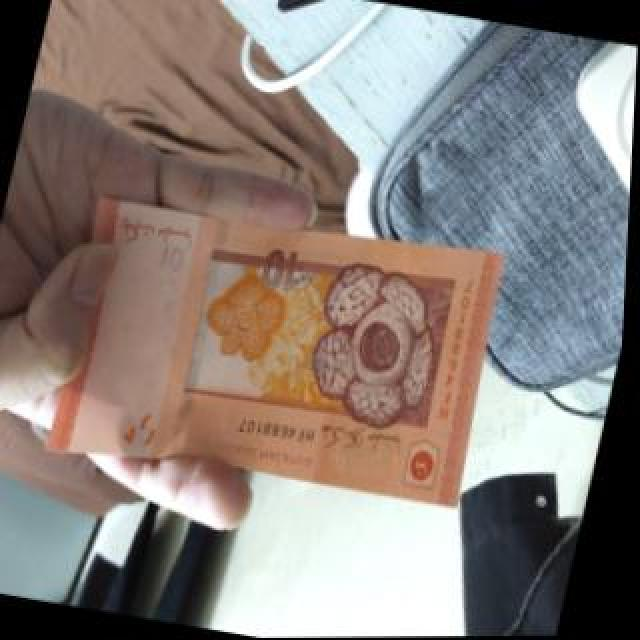10 Ringgit: (34, 188, 509, 515)
